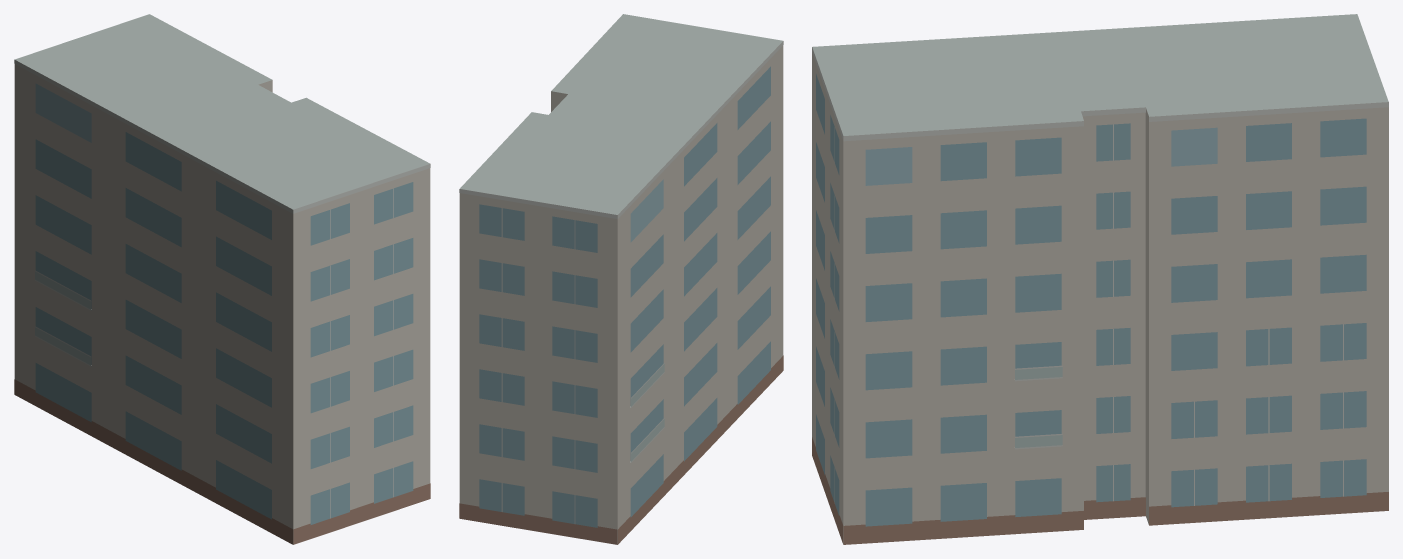
File: survey-upis-32944374.glb
3 renders of one model, left to right at view 1: azimuth 30°, elevation 25°; view 2: azimuth 150°, elevation 25°; view 3: azimuth 270°, elevation 25°, orthographic. The views are drawn at different scales.
Parts seen in each view (by area): view 1: survey-upis-32944374.tmp; view 2: survey-upis-32944374.tmp; view 3: survey-upis-32944374.tmp.
Part boxes in pixels (left/top/right/bottom): survey-upis-32944374.tmp: left=14, top=14, right=430, bottom=544; survey-upis-32944374.tmp: left=459, top=14, right=783, bottom=544; survey-upis-32944374.tmp: left=812, top=14, right=1388, bottom=544.
Size of the model in its own units: 12.41 by 19.35 by 24.75.
